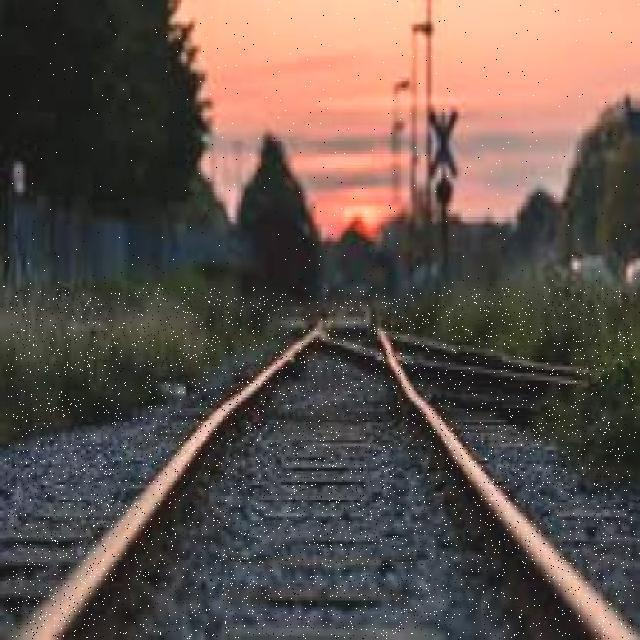rail: (7, 289, 637, 640)
